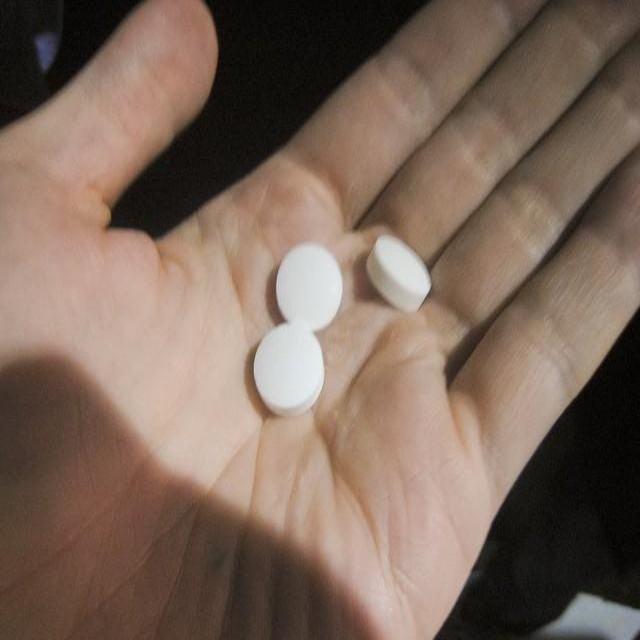pill: (252, 242, 326, 314), (273, 181, 344, 248), (366, 175, 431, 234)
